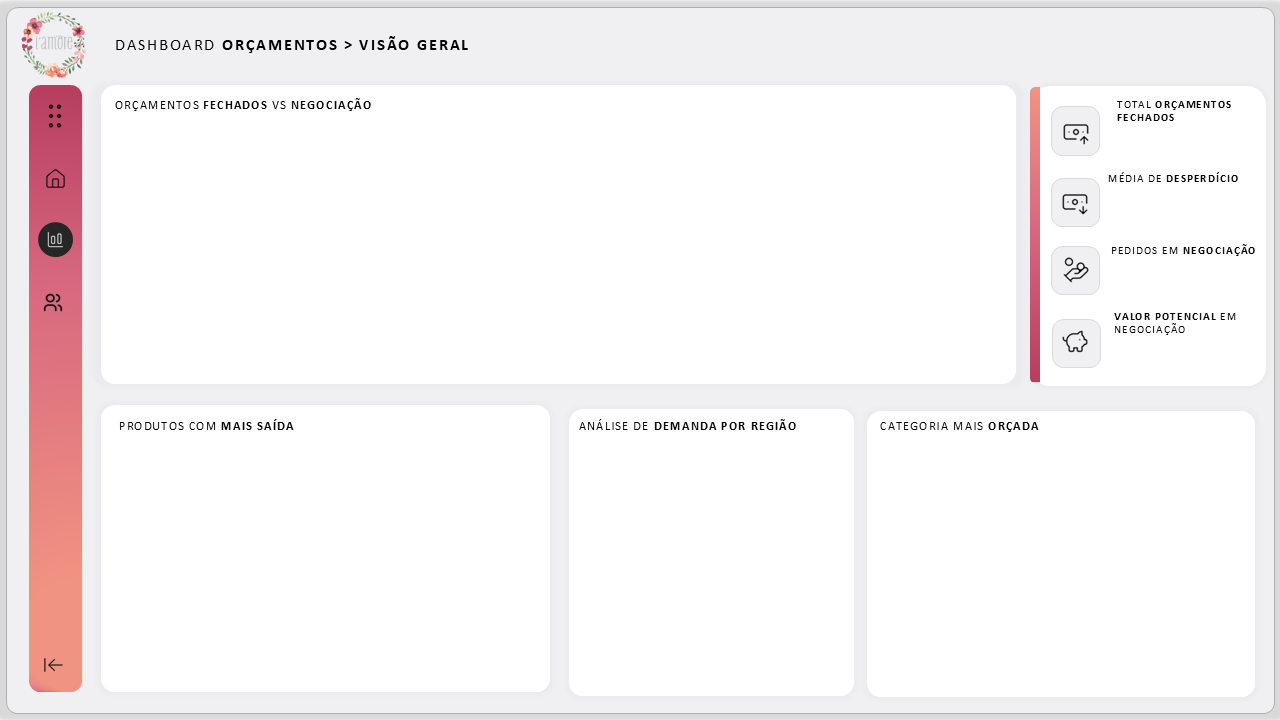

Layout of this report page (visuals, bound fields, positions):
{"tool":"powerbi","page":{"name":"Página 1","canvas":[1280,720],"ordinal":0},"visuals":[{"type":"cardVisual","fields":{"Data":["_Medidas.Orcamentos Em Negociacao"]},"box":[1107.5,240,117.5,78.8],"z":0},{"type":"cardVisual","fields":{"Data":["_Medidas.Orcamentos Fechados"]},"box":[1101.2,102.5,107.5,66.2],"z":1000},{"type":"cardVisual","fields":{"Data":["_Medidas.Valor Em Negociacao"]},"box":[1106.2,308.8,173.8,75],"z":2000},{"type":"lineChart","fields":{"Y2":["_Medidas.Orcamentos Fechados"],"Category":["fato_orcamentos.data_orcamento.Variation.Hierarquia de datas.Mês1"],"Y":["_Medidas.Orcamentos Em Negociacao"]},"box":[133.8,125,893.8,247.5],"z":3000},{"type":"pieChart","fields":{"Category":["dim_produtos.categoria"],"Y":["_Medidas.Qtd Itens Cotados"]},"box":[893.8,452.5,386.2,245],"z":4000},{"type":"azureMap","fields":{"Category":["fato_orcamentos.estado"],"Series":["fato_orcamentos.Total Orçamentos por Região"]},"box":[593.8,443.8,272.5,243.8],"z":5000},{"type":"cardVisual","fields":{"Data":["_Medidas.Media Desperdicio Fechados"]},"box":[1107.5,158.8,148.8,91.2],"z":6000},{"type":"barChart","fields":{"Category":["fato_itens_orcamento.produto"],"Y":["CountNonNull(fato_itens_orcamento.id_orcamento)"]},"box":[133.8,440,430,237.5],"z":7000}]}

Visuals, with their boxes on the page's 1280x720 design canvas (x1, y1, x2, y2). These are canvas units, not pixel positions in the 1280x720 screenshot, which may show the page scaled, cropped or inside an application window:
cardVisual - _Medidas.Orcamentos Em Negociacao: box(1108, 240, 1225, 319)
cardVisual - _Medidas.Orcamentos Fechados: box(1101, 102, 1209, 169)
cardVisual - _Medidas.Valor Em Negociacao: box(1106, 309, 1280, 384)
lineChart - _Medidas.Orcamentos Fechados x fato_orcamentos.data_orcamento.Variation.Hierarquia de datas.Mês1: box(134, 125, 1028, 372)
pieChart - dim_produtos.categoria x _Medidas.Qtd Itens Cotados: box(894, 452, 1280, 698)
azureMap - fato_orcamentos.estado x fato_orcamentos.Total Orçamentos por Região: box(594, 444, 866, 688)
cardVisual - _Medidas.Media Desperdicio Fechados: box(1108, 159, 1256, 250)
barChart - fato_itens_orcamento.produto x CountNonNull(fato_itens_orcamento.id_orcamento): box(134, 440, 564, 678)
